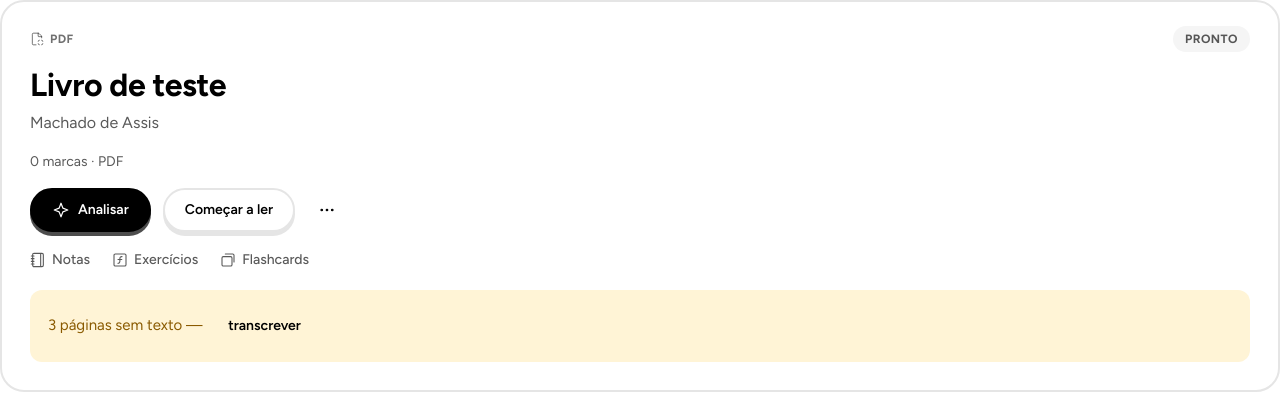
it: PDF escaneado: "N páginas sem texto — transcrever" pede o job e some enquanto ele roda
Expected: the text "3 páginas sem texto — transcrever" is shown, [30, 290, 1250, 362]
What coordinates should you click on to do the following:
click the button "transcrever"
I would click on:
 (265, 326)
Its box is [206, 304, 323, 348].
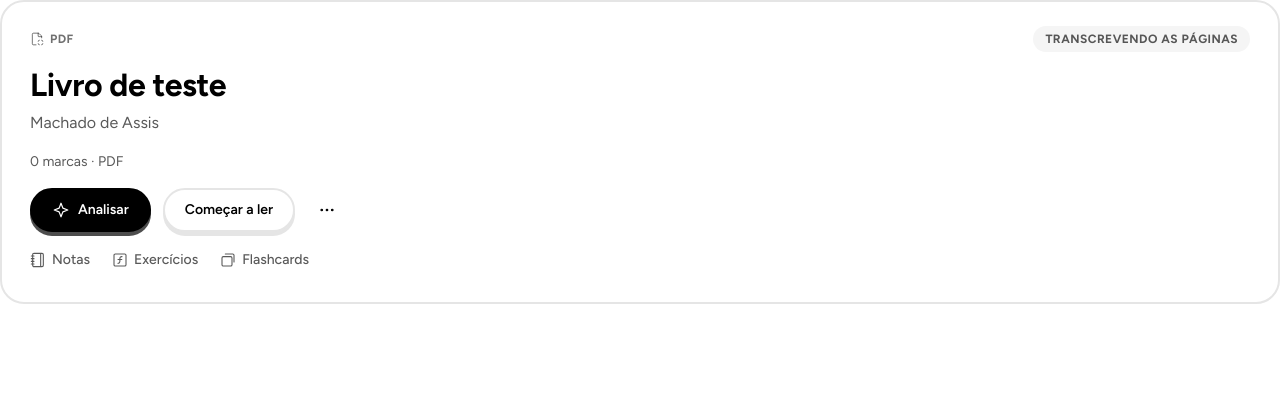
Expected: the text "páginas sem texto" is gone
Expected: the text "transcrevendo as páginas" is shown, [1033, 26, 1250, 52]
